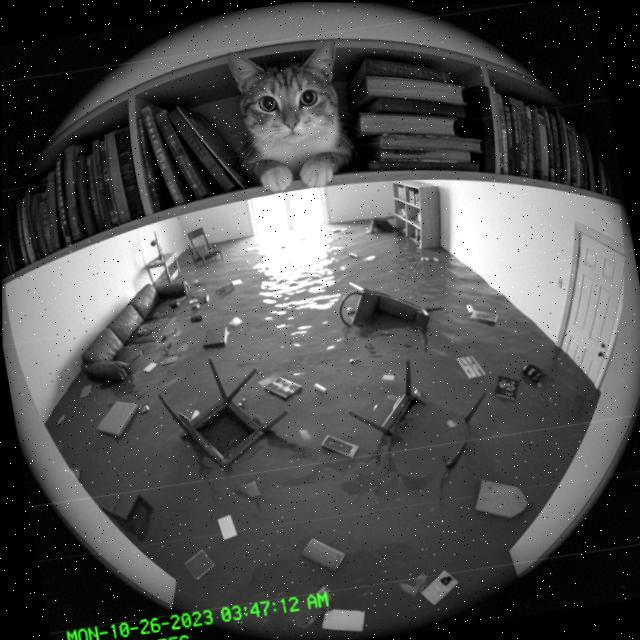cat: (219, 30, 368, 203)
